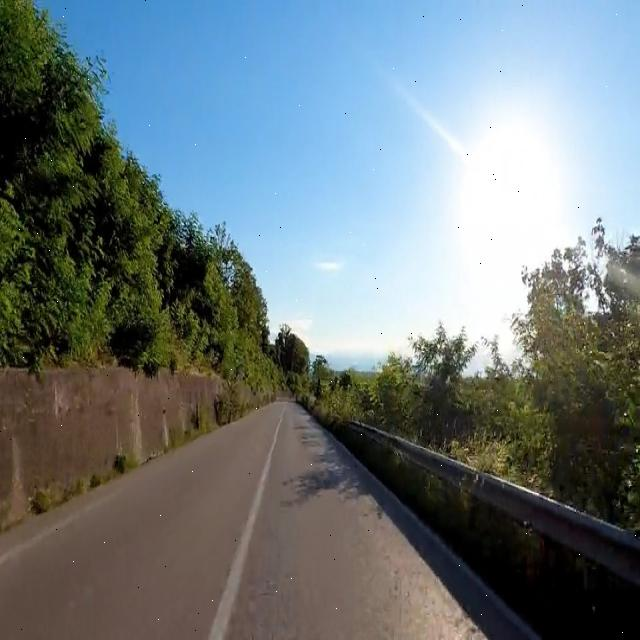lane: (209, 409, 285, 639)
road: (1, 401, 483, 638)
